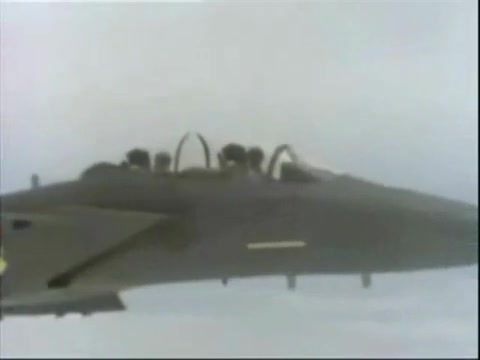aeroplane: (1, 132, 480, 323)
